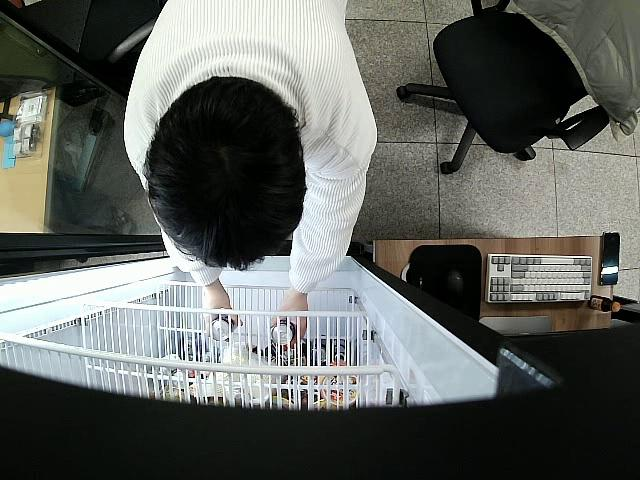00_hand: (202, 291, 244, 342), (269, 301, 308, 351)
16_hot6: (271, 320, 297, 349), (209, 316, 235, 342)
